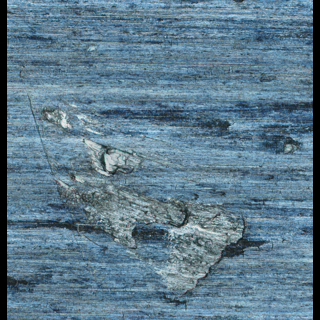d: (39, 99, 267, 307), (268, 132, 302, 156)
